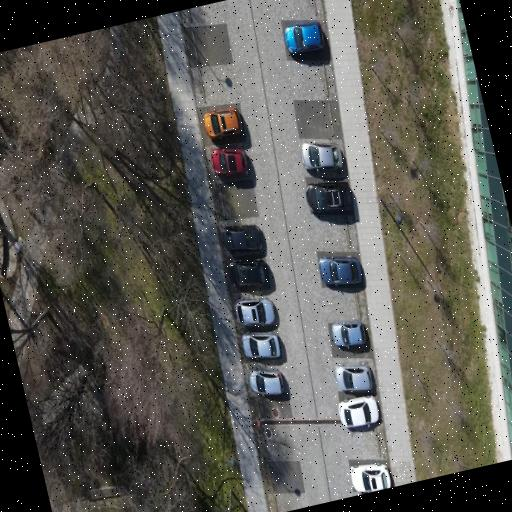person: (306, 181, 353, 214), (202, 105, 244, 141), (339, 395, 379, 427), (350, 462, 391, 492), (284, 21, 323, 52), (319, 256, 362, 284), (229, 259, 268, 289), (302, 142, 342, 170), (236, 297, 275, 324), (222, 225, 262, 251), (336, 362, 372, 390), (242, 332, 280, 357), (211, 148, 247, 174), (249, 369, 283, 394), (332, 320, 365, 345)
